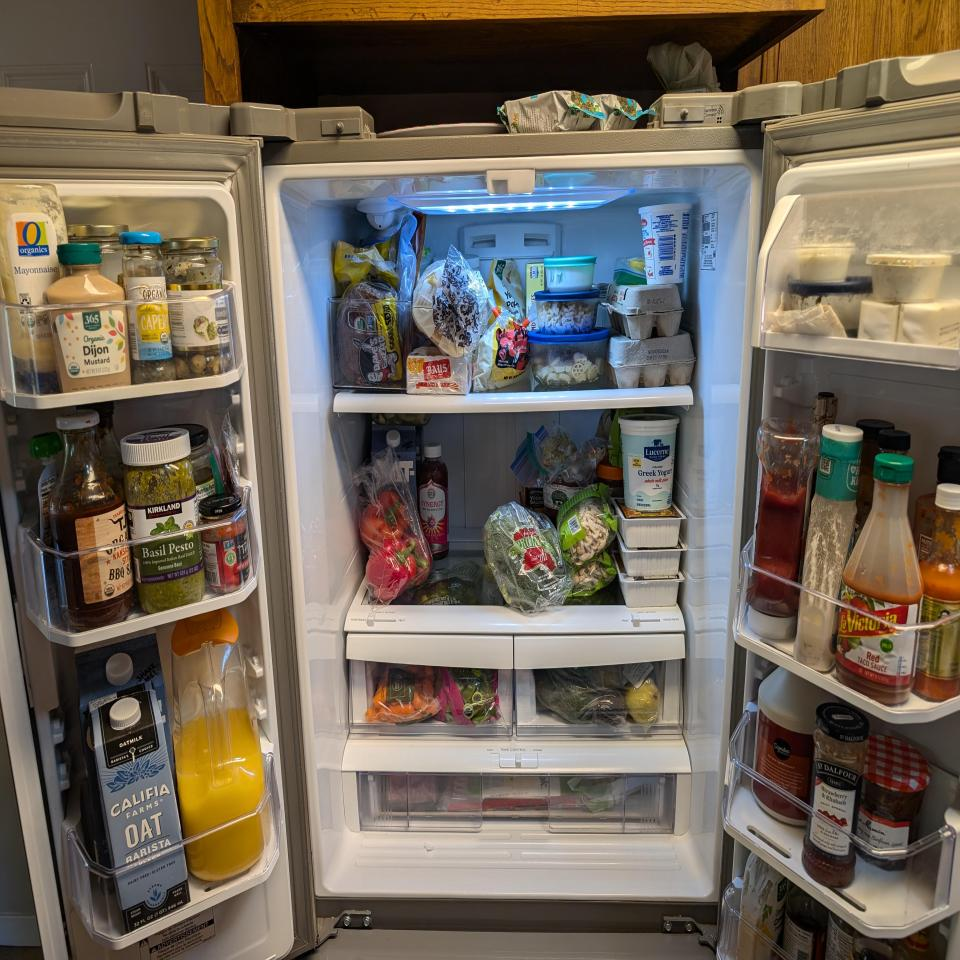Huevos: (608, 333, 694, 389), (606, 282, 683, 338)
Limón: (627, 680, 661, 724)
Yogur: (618, 412, 678, 512), (638, 204, 691, 284)
Zanahoria: (366, 661, 442, 725)
bell pepper: (364, 538, 416, 601), (360, 491, 412, 550)
ketchup: (746, 417, 820, 640)
mustard: (44, 242, 132, 392)
